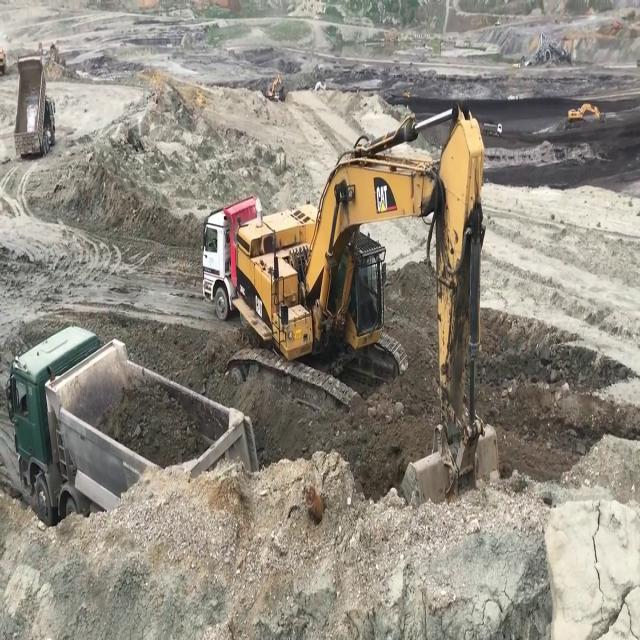excavator: (230, 99, 503, 523)
